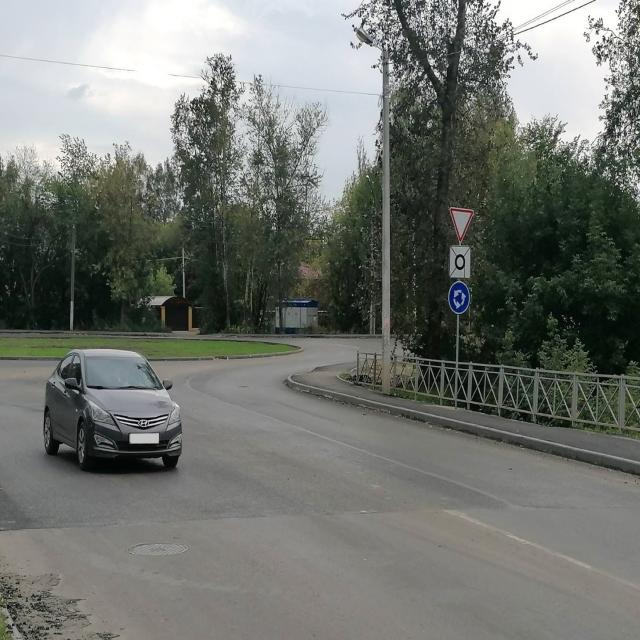roundabout: (447, 278, 471, 318)
